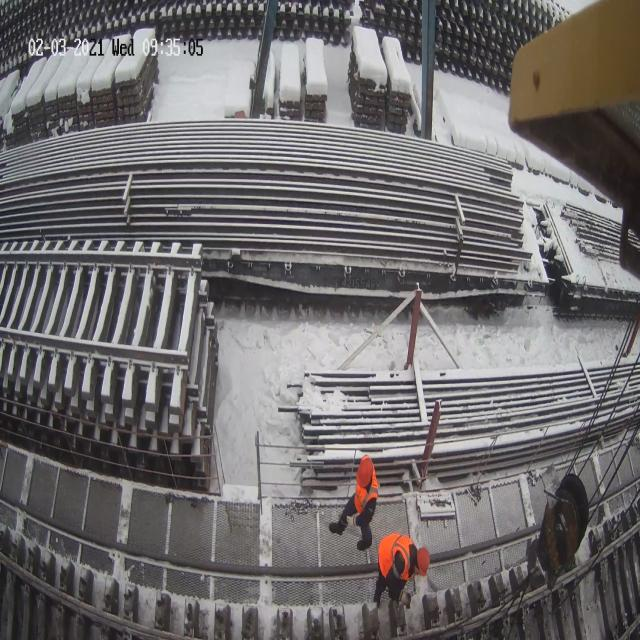Helmet: (356, 454, 374, 488), (416, 547, 429, 577)
Person: (329, 454, 378, 551), (373, 532, 430, 609)
